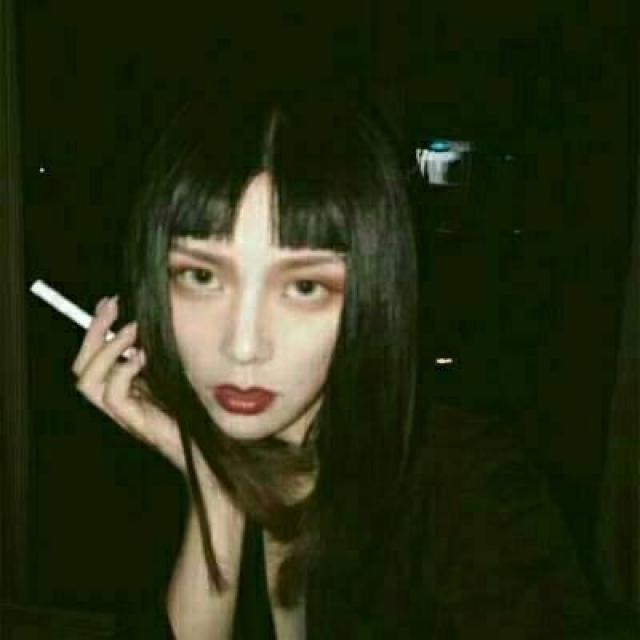smoking: (24, 268, 146, 375)
